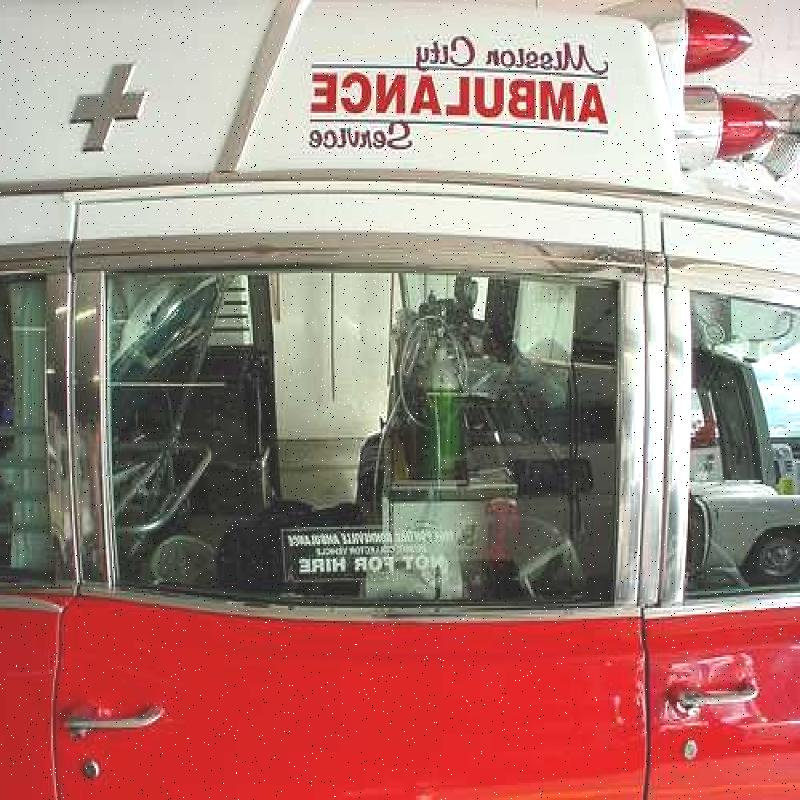AmbulanceSiren: (664, 6, 796, 174)
